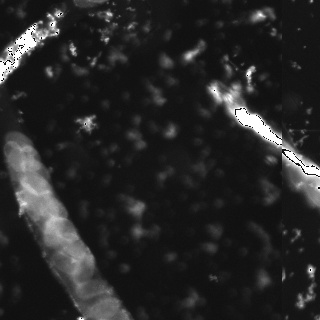embryo: (18, 170, 50, 194), (40, 196, 68, 222), (53, 217, 77, 246), (51, 251, 81, 274), (76, 278, 107, 299), (22, 160, 50, 183), (17, 190, 45, 213), (4, 142, 26, 171), (84, 291, 110, 315), (44, 216, 64, 247), (74, 256, 96, 284), (6, 131, 34, 152), (62, 233, 86, 257), (286, 161, 307, 188), (19, 146, 41, 169), (9, 152, 26, 180)
